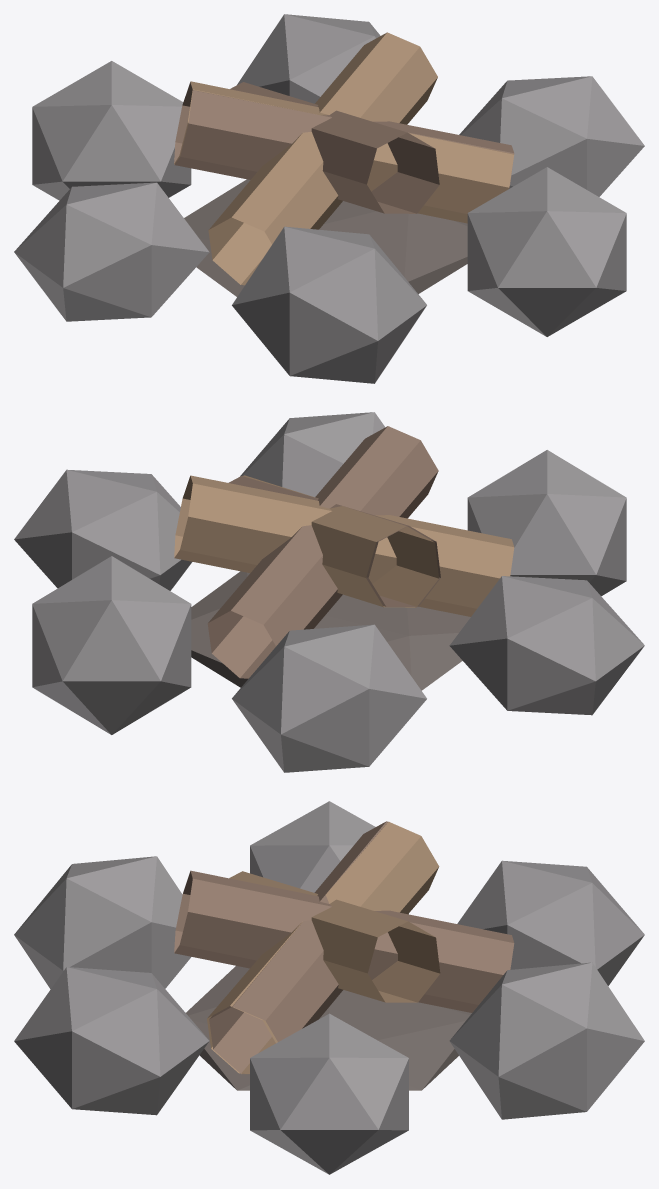
The picture shows the model from 3 angles, top to bottom: view 1: azimuth 30°, elevation 25°; view 2: azimuth 150°, elevation 25°; view 3: azimuth 270°, elevation 25°; orthographic projection.
Parts seen in each view (by area): view 1: C10; view 2: C10; view 3: C10.
Part boxes in pixels (x1=…): C10: x1=14, y1=14, x2=644, y2=383; C10: x1=14, y1=412, x2=644, y2=772; C10: x1=14, y1=801, x2=644, y2=1174.
Bounding box in the file's own units: 1.15 × 0.3429 × 1.08.
